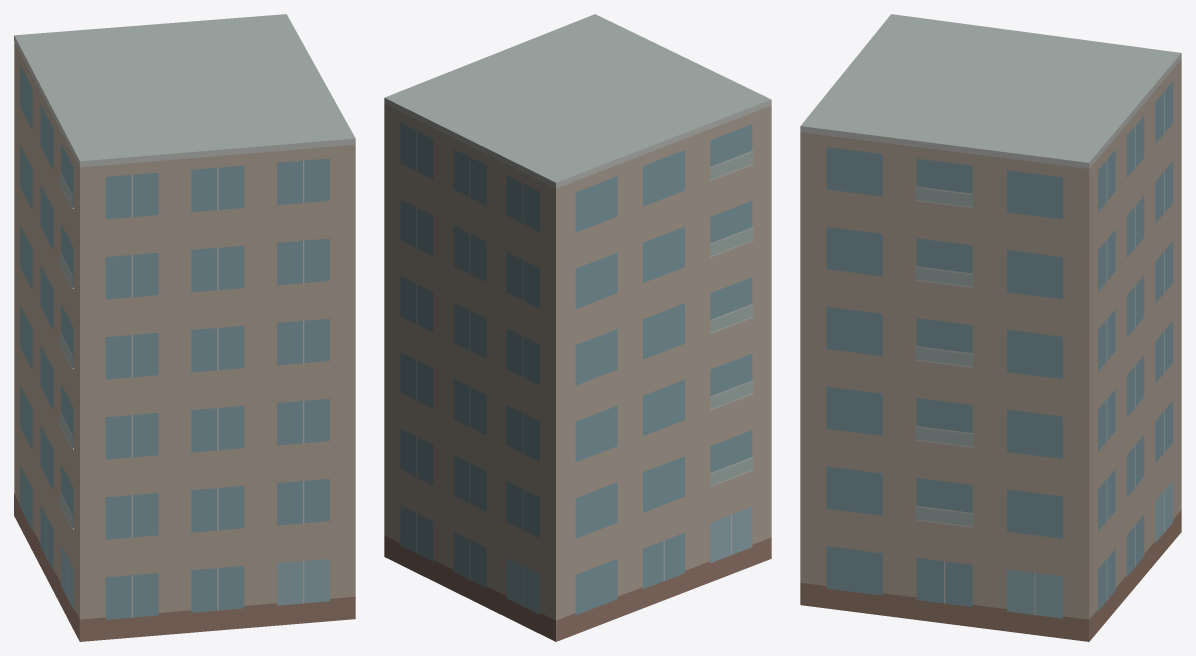
The model's file is survey-upis-33024482.glb.
The picture shows the model from 3 angles, left to right: view 1: azimuth 30°, elevation 25°; view 2: azimuth 150°, elevation 25°; view 3: azimuth 270°, elevation 25°; orthographic projection. The views are drawn at different scales.
Visible parts, largest first — view 1: survey-upis-33024482.tmp; view 2: survey-upis-33024482.tmp; view 3: survey-upis-33024482.tmp.
Boxes of the visible parts, bbox=[...] form: survey-upis-33024482.tmp: bbox=[14, 14, 355, 641]; survey-upis-33024482.tmp: bbox=[384, 14, 771, 641]; survey-upis-33024482.tmp: bbox=[800, 14, 1181, 641].
Size of the model in its own units: 12.87 by 19.3 by 13.93.
